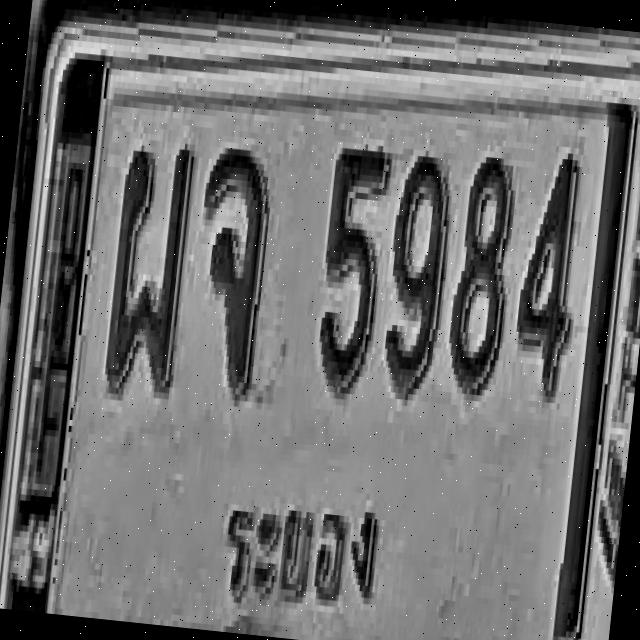17ChorChan: (184, 143, 276, 399)
37PhorPhueng: (101, 138, 196, 400)
4: (509, 147, 588, 400)
5: (311, 138, 393, 398)
8: (445, 149, 521, 397)
9: (378, 148, 456, 396)
Rayong: (207, 480, 392, 629)
